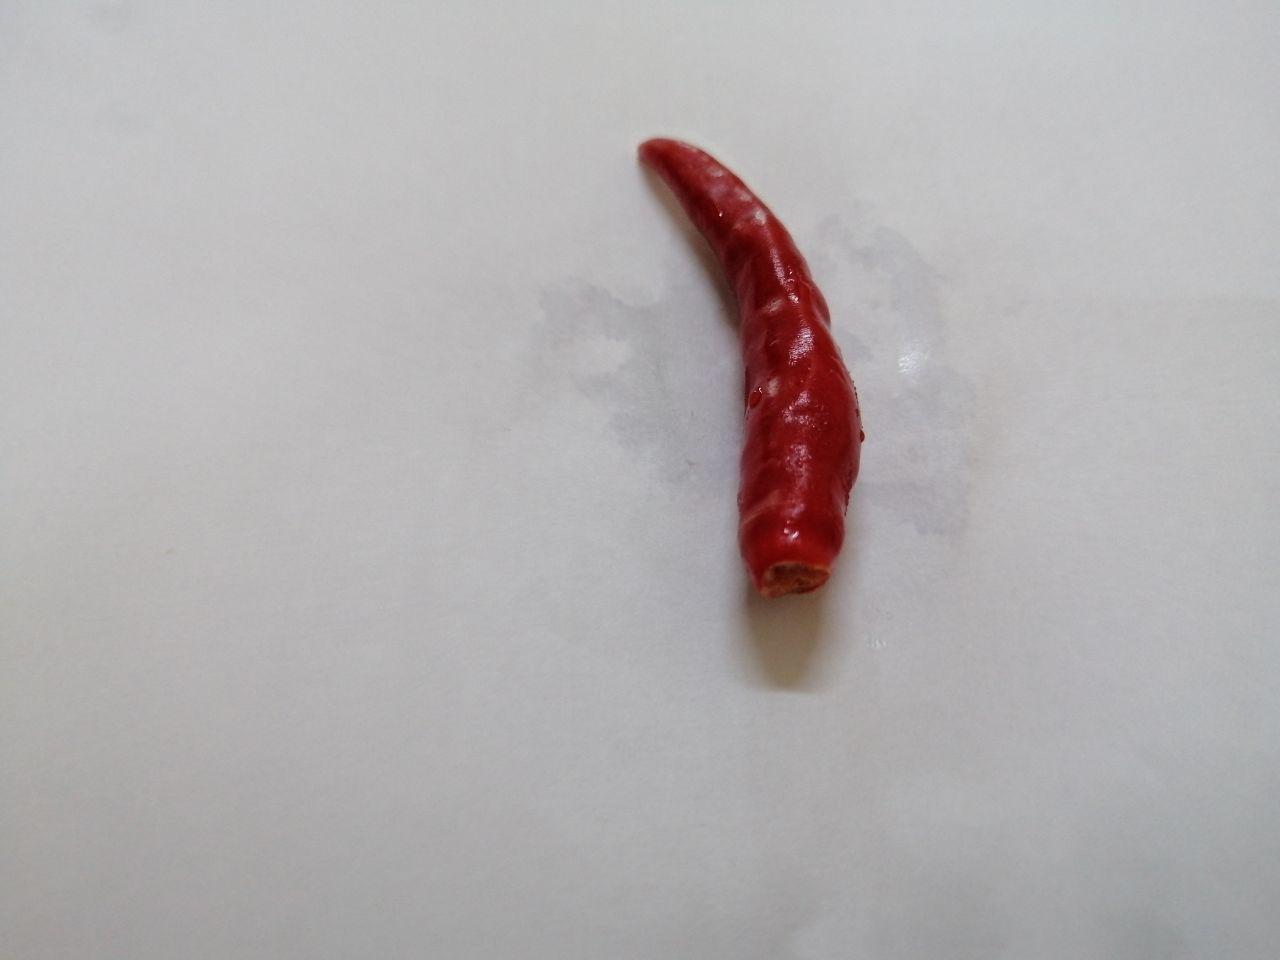lada merah: (628, 122, 881, 643)
